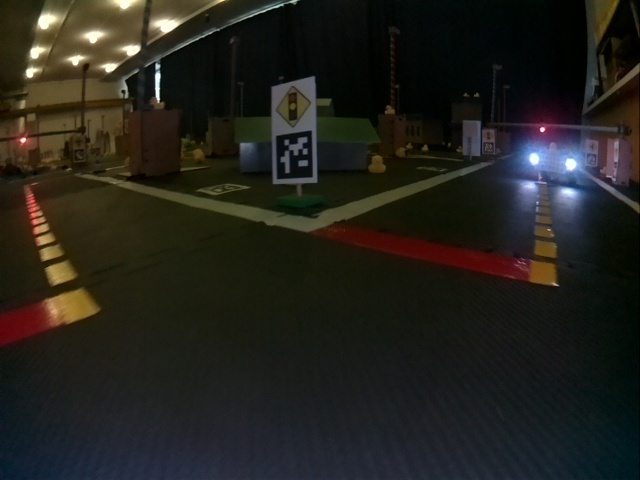Duckie: (368, 154, 385, 174), (386, 106, 395, 114)
Duckiebot: (529, 151, 579, 184)
QR code: (275, 131, 315, 181), (200, 183, 249, 196), (418, 163, 447, 172), (484, 142, 495, 154)
Signal sign: (276, 84, 313, 128), (484, 130, 494, 139)
Traffic light: (19, 135, 27, 144)
